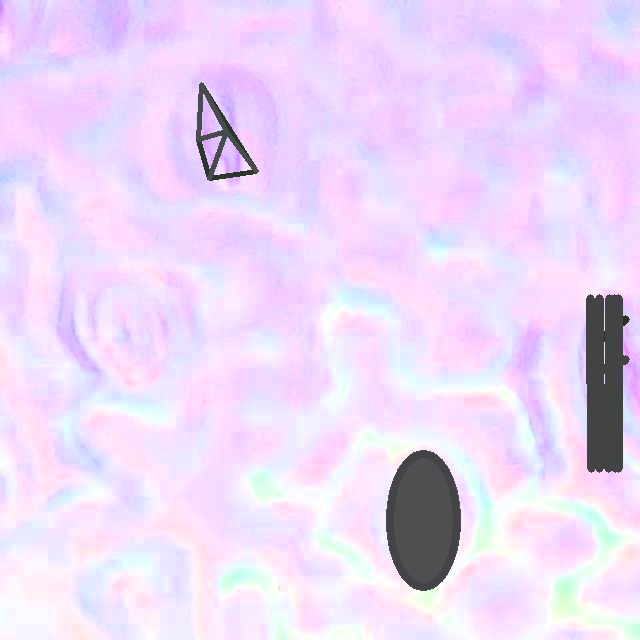open: (386, 449, 460, 590), (586, 294, 629, 472), (196, 83, 257, 179)
